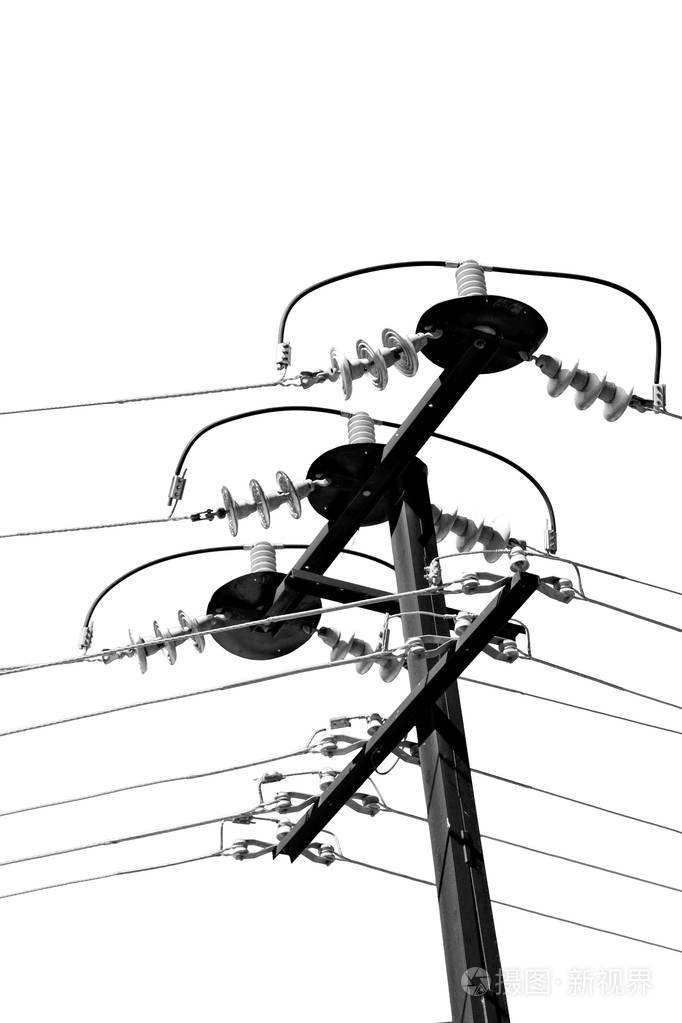insulator: (329, 326, 423, 395), (547, 354, 634, 424), (222, 467, 306, 537), (124, 608, 204, 672), (426, 500, 512, 558), (322, 624, 406, 682)
